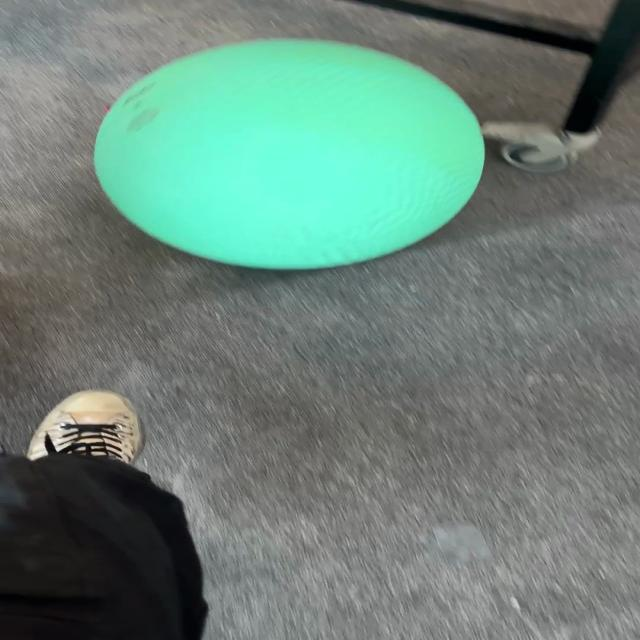Algae: (91, 38, 487, 271)
